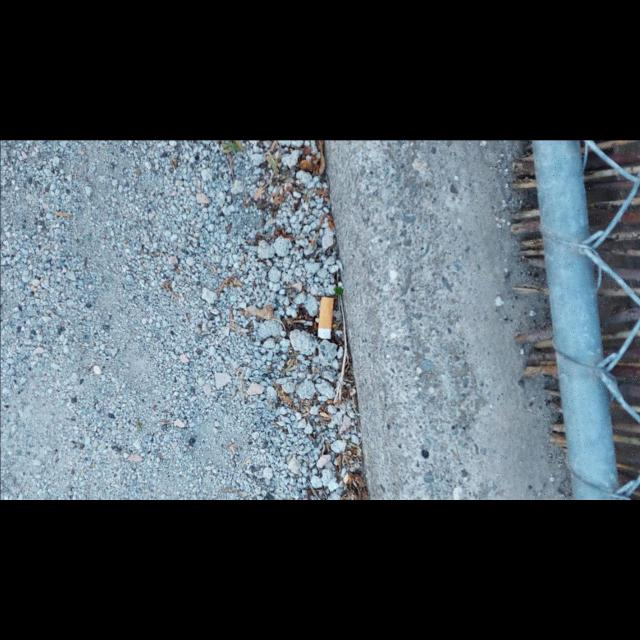cigarette: (316, 296, 334, 339)
